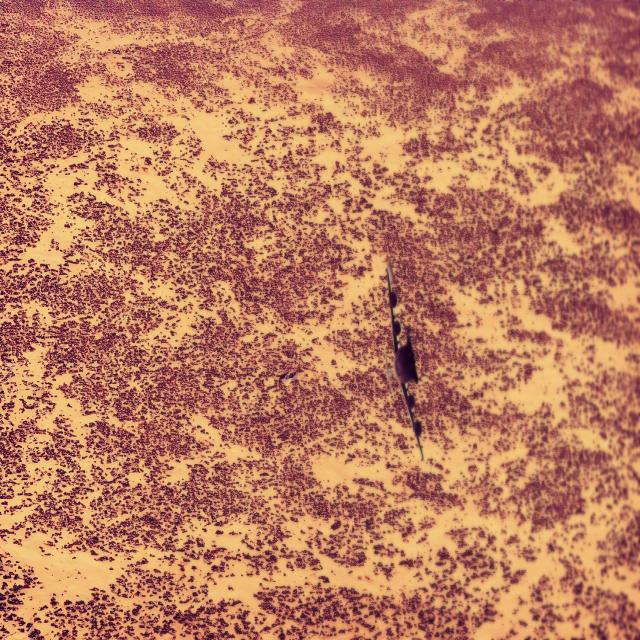airplane: (385, 262, 424, 461)
